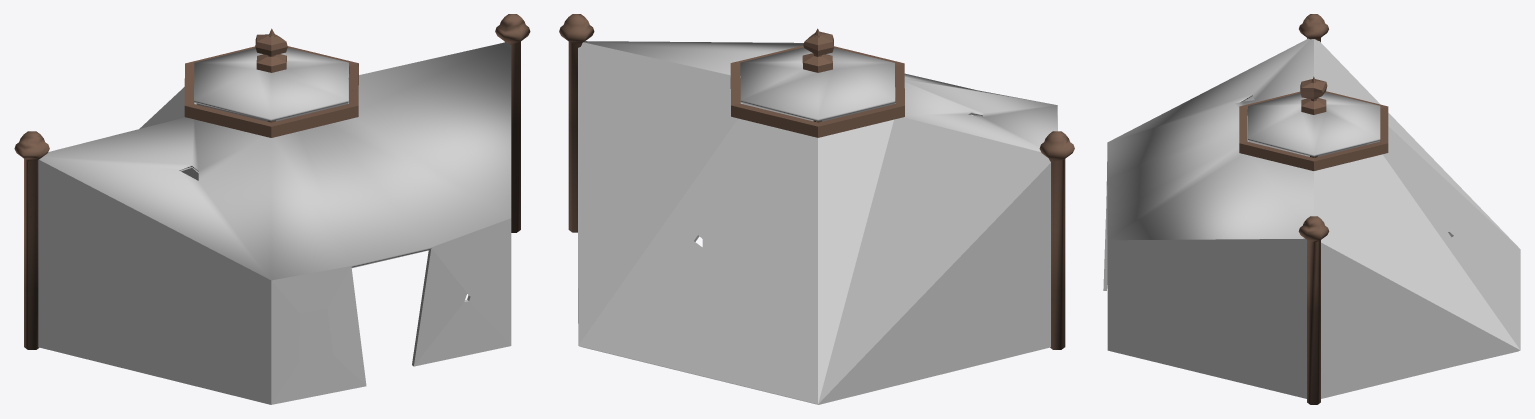
The model's file is TendaPano.fbx.
3 views of the same model, side by side, from view 1: azimuth 30°, elevation 25°; view 2: azimuth 150°, elevation 25°; view 3: azimuth 270°, elevation 25° (orthographic). The views are drawn at different scales.
Visible parts, largest first — view 1: CabanaDriplessModelo.003; view 2: CabanaDriplessModelo.003; view 3: CabanaDriplessModelo.003.
Part boxes in pixels (<box>): CabanaDriplessModelo.003: <box>14,14,530,404</box>; CabanaDriplessModelo.003: <box>559,14,1074,404</box>; CabanaDriplessModelo.003: <box>1103,14,1520,404</box>.
Bounding box in the file's own units: 143 × 70.82 × 118.
